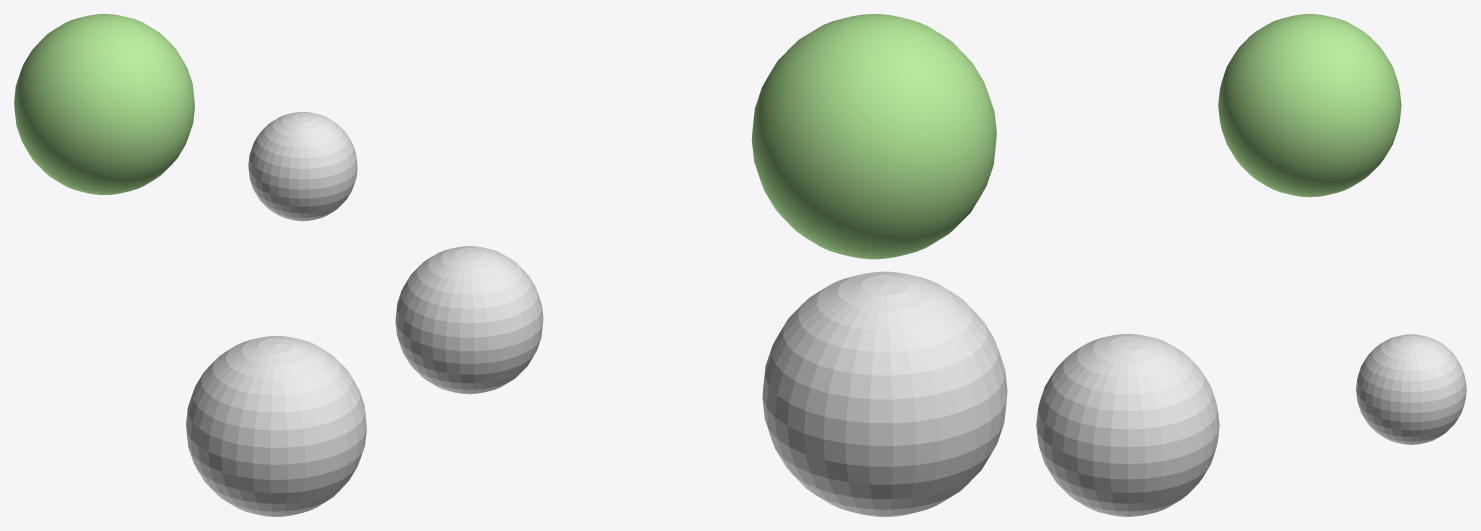
3 renders of one model, left to right at view 1: azimuth 30°, elevation 25°; view 2: azimuth 150°, elevation 25°; view 3: azimuth 270°, elevation 25°, orthographic. The views are drawn at different scales.
Visible parts, largest first — view 1: 球体, 球体.001, 球体.002; view 2: 球体.001, 球体, 球体.002; view 3: 球体, 球体.001, 球体.002.
Boxes of the visible parts, x1,y1,x2,y2 form: 球体: (14, 14, 194, 194); 球体.001: (186, 336, 366, 516); 球体.002: (248, 112, 357, 221); 球体.001: (762, 271, 1007, 516); 球体: (751, 14, 996, 259); 球体.002: (395, 246, 543, 394); 球体: (1218, 14, 1401, 197); 球体.001: (1036, 333, 1219, 516); 球体.002: (1356, 334, 1466, 444).
Bounding box in the file's own units: 0.719 × 0.8078 × 0.7076.
